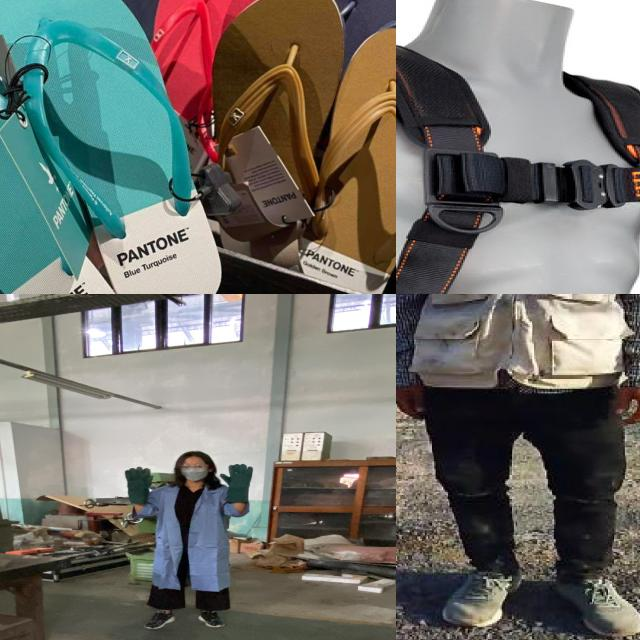Harness: (396, 40, 640, 294)
Sandals: (0, 0, 256, 294)
face_mask: (178, 461, 210, 480)
glasses: (178, 462, 210, 470)
hand_glove: (215, 463, 257, 489), (122, 465, 158, 493)
head_nohelmet: (174, 450, 213, 463)
person: (396, 294, 640, 640), (119, 449, 258, 635)
shoes: (496, 588, 630, 640), (396, 591, 490, 640), (142, 610, 177, 633), (192, 608, 225, 628)
